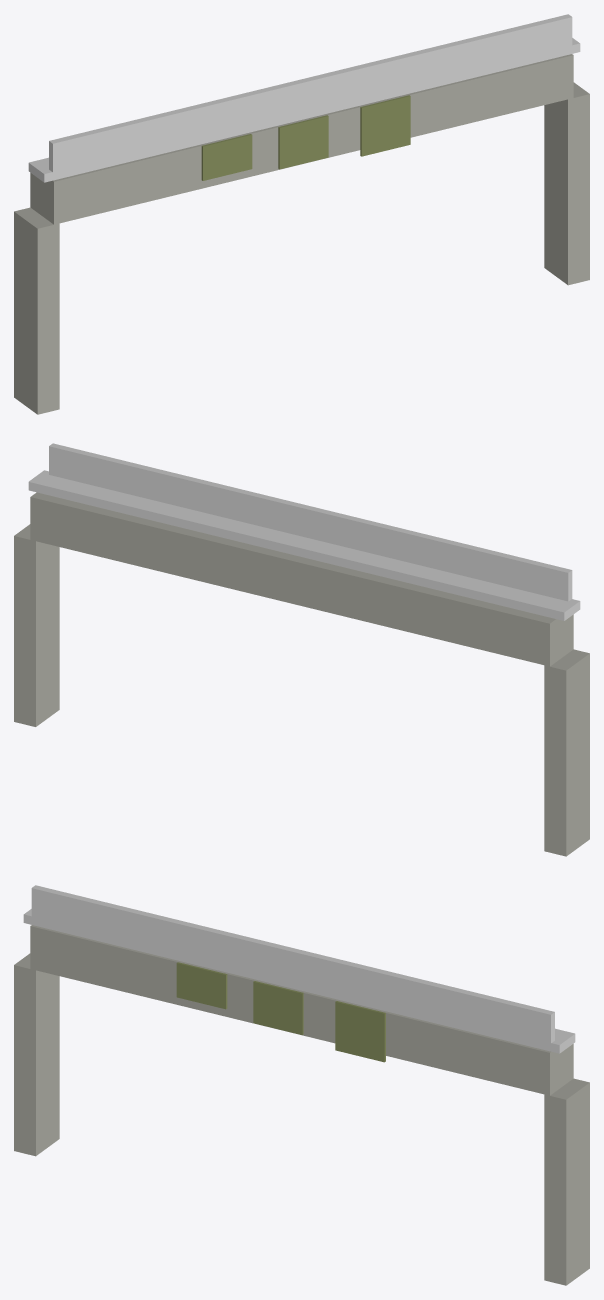
File: SM_MuroTrinchera_Boca_v4_Hiedra_LOD0.fbx
The picture shows the model from 3 angles, top to bottom: view 1: azimuth 30°, elevation 25°; view 2: azimuth 150°, elevation 25°; view 3: azimuth 330°, elevation 25°; orthographic projection.
Parts seen in each view (by area): view 1: SM_muro_trinchera_v9_LOD0; view 2: SM_muro_trinchera_v9_LOD0; view 3: SM_muro_trinchera_v9_LOD0.
Part boxes in pixels (x1,y1,x2,y2): SM_muro_trinchera_v9_LOD0: (14,14,589,414); SM_muro_trinchera_v9_LOD0: (14,443,589,856); SM_muro_trinchera_v9_LOD0: (14,885,589,1285).
Bounding box in the file's own units: 20.2 × 9.3 × 1.58.
